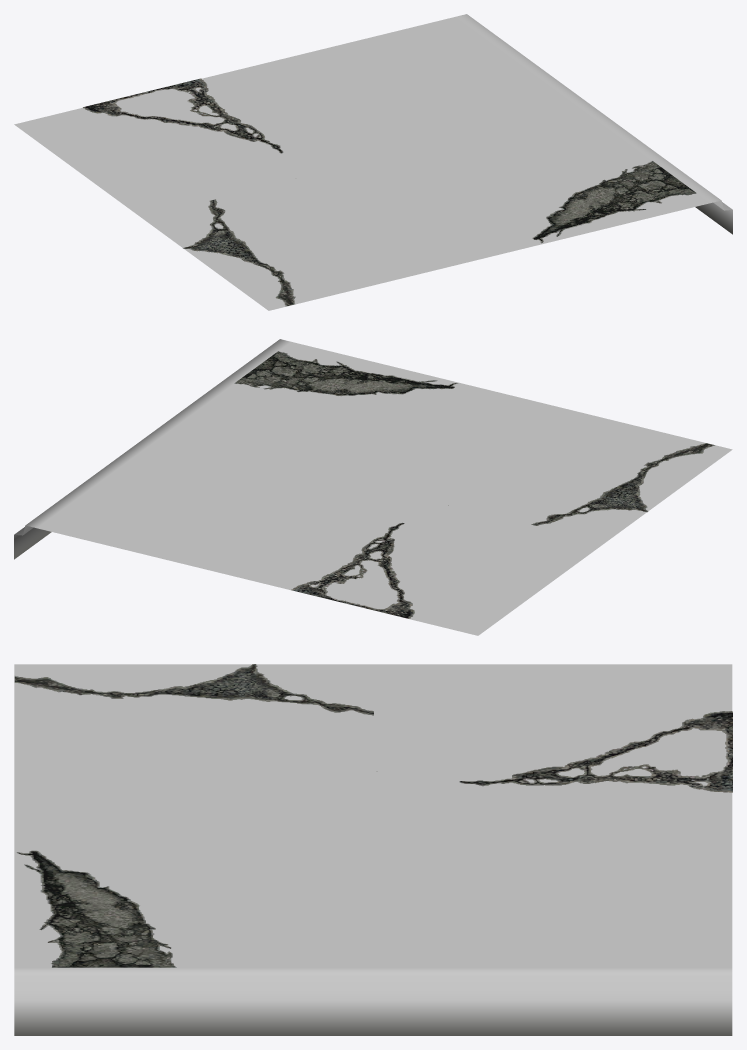
Rendered from SWDoubleDeepEdge02.FBX.
3 views of the same model, one above another, from view 1: azimuth 30°, elevation 25°; view 2: azimuth 150°, elevation 25°; view 3: azimuth 270°, elevation 25° (orthographic). The views are drawn at different scales.
Parts seen in each view (by area): view 1: Slab, Cracks; view 2: Slab, Cracks; view 3: Slab, Cracks.
Part boxes in pixels (bbox=[...]): Slab: bbox=[14, 14, 732, 310]; Cracks: bbox=[83, 78, 696, 306]; Slab: bbox=[14, 339, 732, 635]; Cracks: bbox=[234, 351, 715, 618]; Slab: bbox=[14, 664, 732, 1035]; Cracks: bbox=[14, 664, 732, 967].
Size of what is drawn, in the model's own units: 5.39 by 0.4145 by 5.13.
